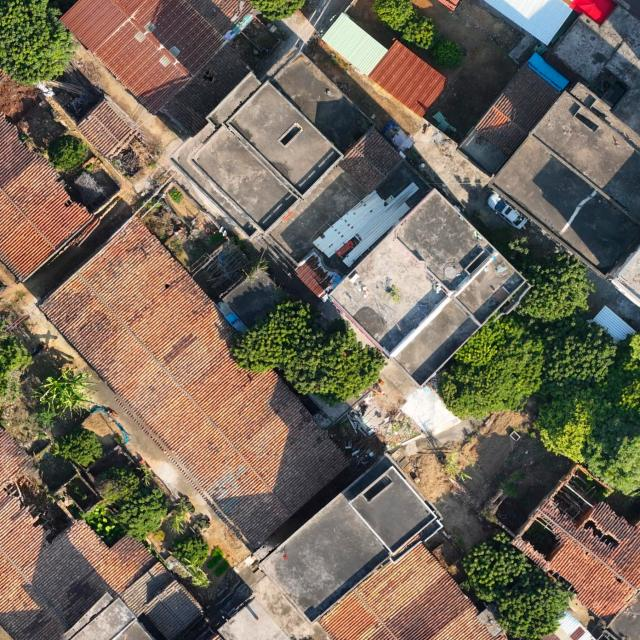Tree: (230, 297, 388, 403), (437, 311, 545, 421), (534, 381, 617, 465), (0, 0, 79, 87), (80, 465, 168, 542), (513, 249, 594, 323), (498, 566, 575, 640), (461, 529, 532, 603), (590, 331, 640, 434), (544, 316, 618, 383), (583, 428, 640, 498), (0, 317, 35, 413), (58, 427, 105, 468), (233, 0, 307, 21), (47, 135, 89, 171), (371, 0, 418, 32), (399, 14, 440, 50), (173, 533, 210, 569), (430, 35, 465, 70)
